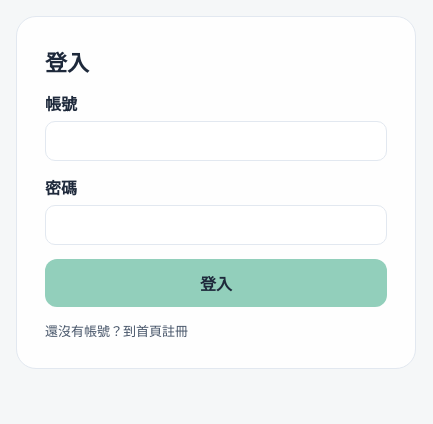
登入失敗顯示錯誤、不導頁
Step 1. Type "dino" into the field labelled "帳號" → (216, 141), box [45,121,387,161]
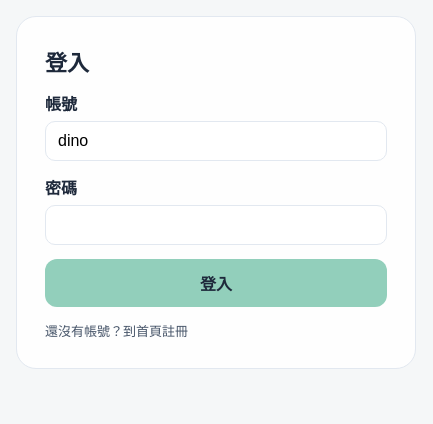
Step 2. Type "bad" into the password field labelled "密碼" → (216, 225), box [45,205,387,245]
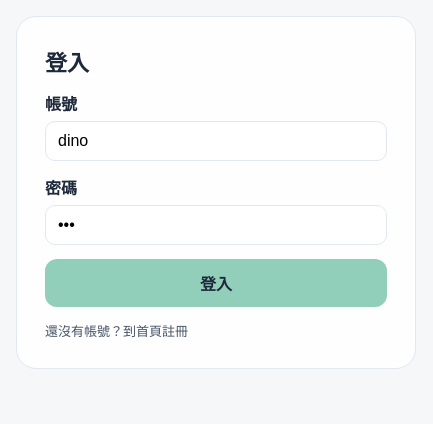
Step 3. Click the button "登入" → (216, 283), box [45,259,387,307]
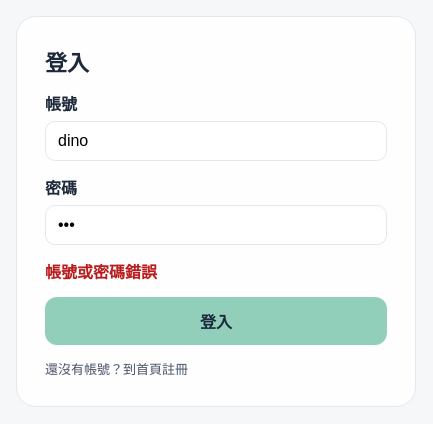
Expected: the message reads "帳號或密碼錯誤", [45,262,157,282]
